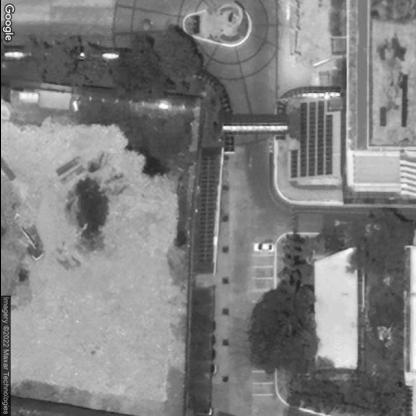solar-pv-panel: (289, 101, 332, 178), (198, 154, 218, 262)
